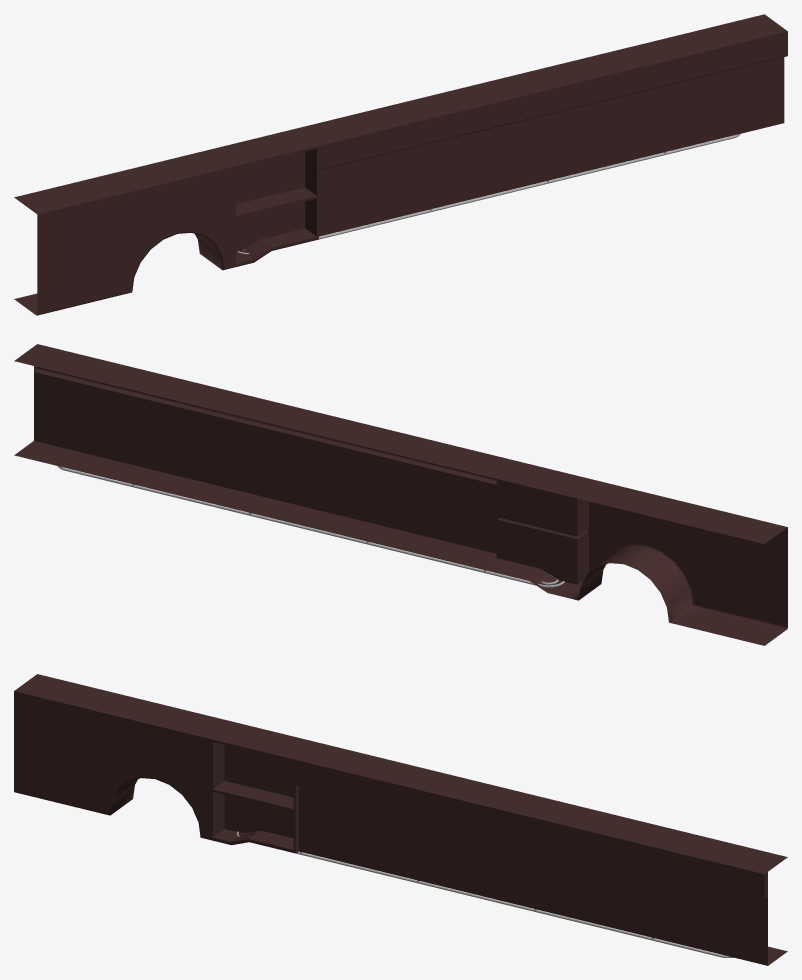
The model's file is KitchenCabinet.fbx.
3 views of the same model, one above another, from view 1: azimuth 30°, elevation 25°; view 2: azimuth 150°, elevation 25°; view 3: azimuth 330°, elevation 25° (orthographic).
Visible parts, largest first — view 1: KitchenCabinet_2, KitchenCabinet_1, nurbsToPoly7; view 2: KitchenCabinet_2, KitchenCabinet_1, nurbsToPoly7; view 3: KitchenCabinet_2, KitchenCabinet_1, nurbsToPoly7.
Part boxes in pixels (left/top/right/bottom): KitchenCabinet_2: left=211, top=14, right=787, bottom=267; KitchenCabinet_1: left=14, top=149, right=234, bottom=315; nurbsToPoly7: left=237, top=134, right=740, bottom=254; KitchenCabinet_2: left=14, top=344, right=590, bottom=597; KitchenCabinet_1: left=568, top=479, right=787, bottom=645; nurbsToPoly7: left=58, top=466, right=564, bottom=587; KitchenCabinet_2: left=211, top=722, right=787, bottom=965; KitchenCabinet_1: left=14, top=674, right=233, bottom=839; nurbsToPoly7: left=236, top=831, right=733, bottom=957.
Bounding box in the file's own units: 333 × 43.16 × 18.
